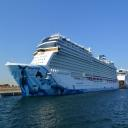cruises: (5, 33, 121, 101)
